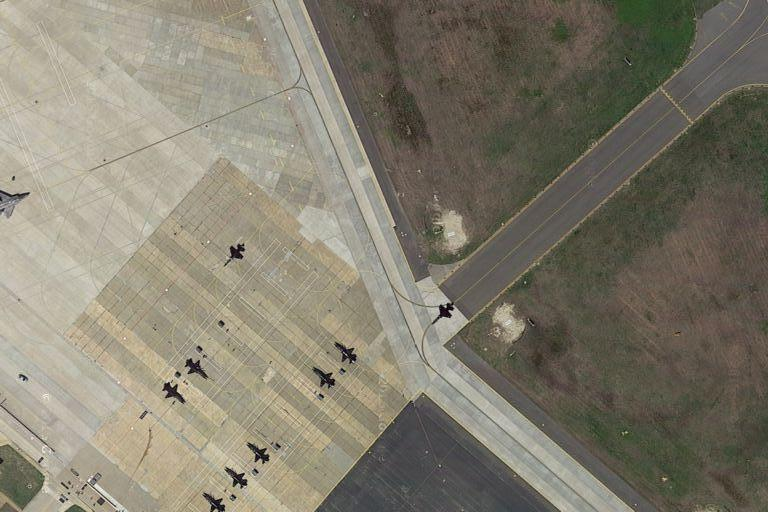plane: (428, 297, 459, 329), (329, 337, 361, 368), (308, 362, 341, 392), (240, 438, 274, 467), (158, 378, 188, 409), (221, 237, 249, 270), (182, 353, 212, 383), (219, 465, 255, 489), (199, 487, 233, 512)
